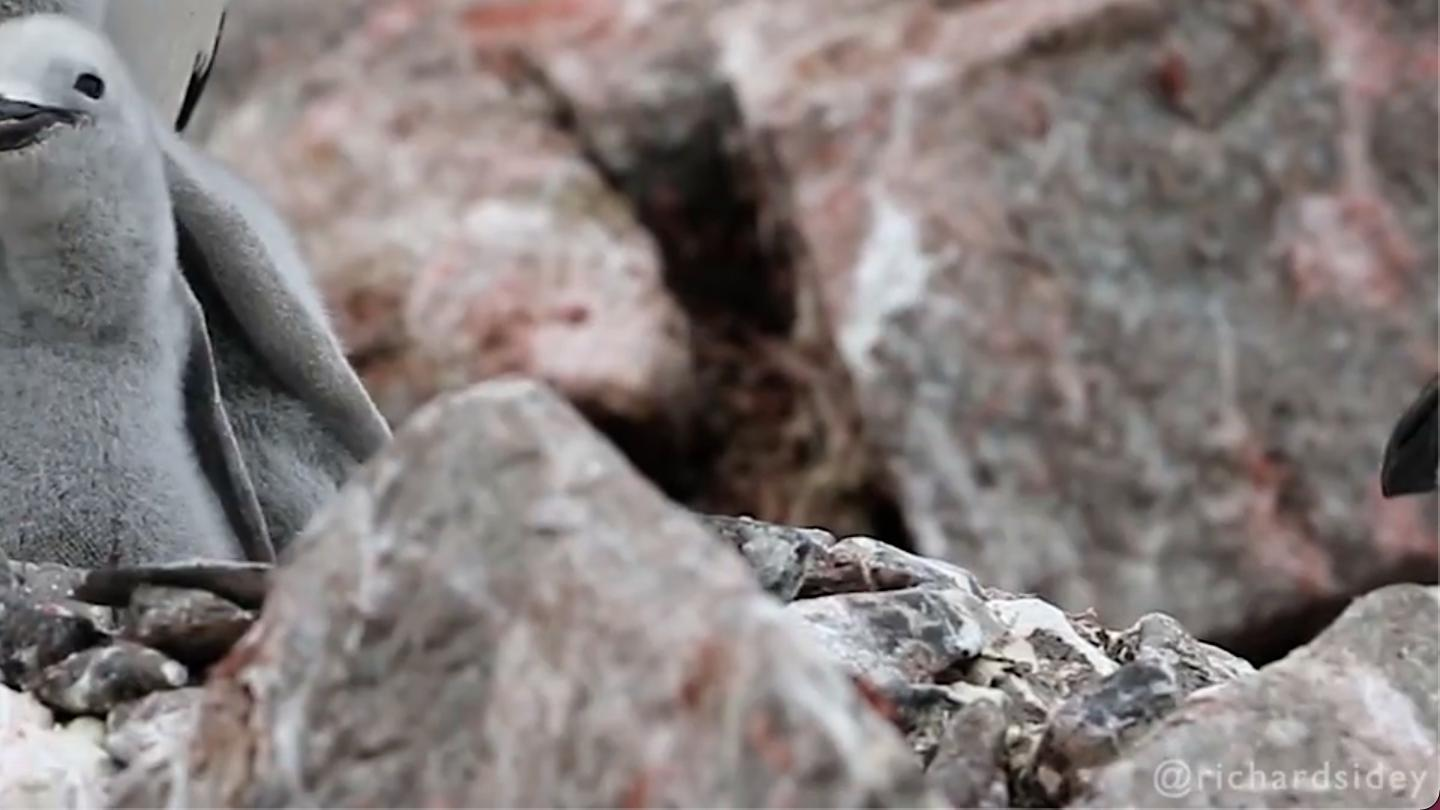Chinstrap Penguin: (0, 0, 523, 573)
